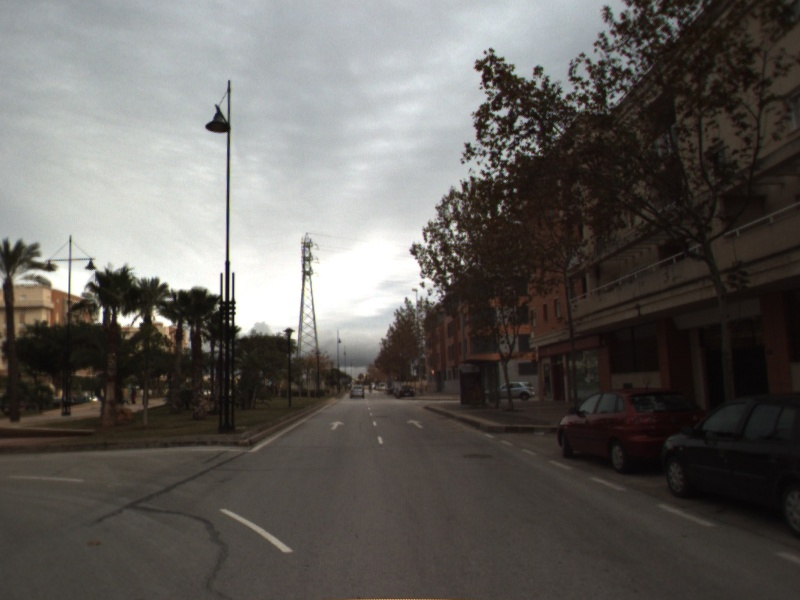STRAIGHT: (404, 417, 426, 430), (326, 419, 347, 432)
